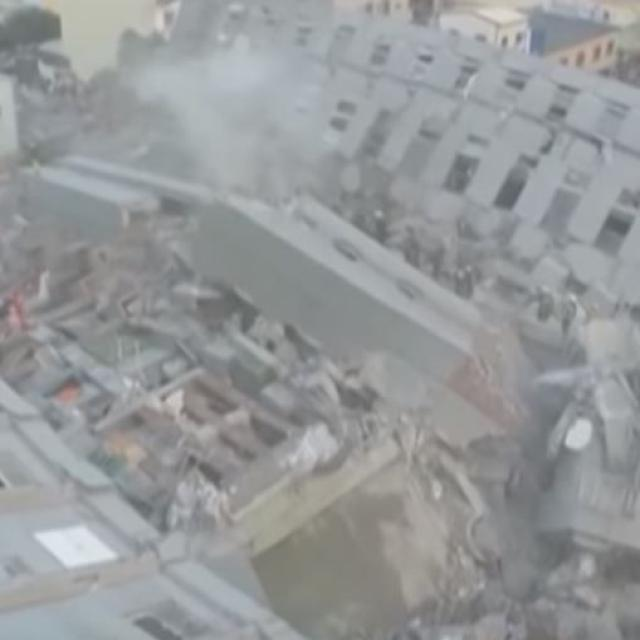collapsed_building: (0, 85, 632, 633)
